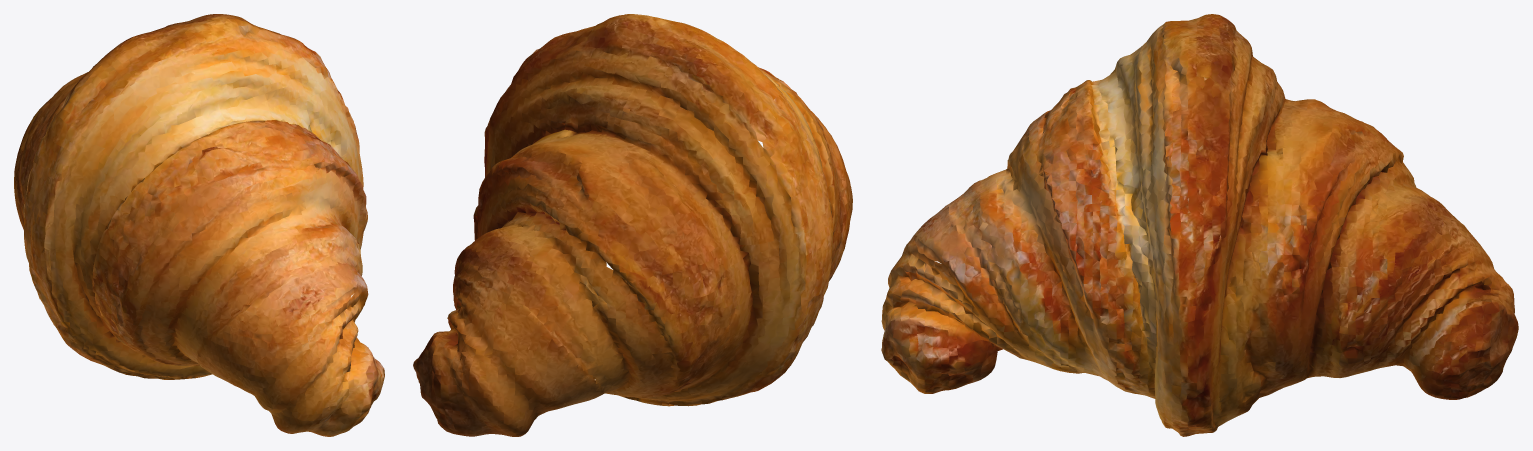
File: croissant.glb
The picture shows the model from 3 angles, left to right: view 1: azimuth 30°, elevation 25°; view 2: azimuth 150°, elevation 25°; view 3: azimuth 270°, elevation 25°; orthographic projection. The views are drawn at different scales.
Visible parts, largest first — view 1: tripo_node_3bd8fe10-61f6-4bc6-89a1-2fbb9782b797; view 2: tripo_node_3bd8fe10-61f6-4bc6-89a1-2fbb9782b797; view 3: tripo_node_3bd8fe10-61f6-4bc6-89a1-2fbb9782b797.
Boxes of the visible parts, <box> form: tripo_node_3bd8fe10-61f6-4bc6-89a1-2fbb9782b797: <box>14,14,384,436</box>; tripo_node_3bd8fe10-61f6-4bc6-89a1-2fbb9782b797: <box>413,14,852,436</box>; tripo_node_3bd8fe10-61f6-4bc6-89a1-2fbb9782b797: <box>881,14,1518,436</box>.
Size of the model in its own units: 0.144 by 0.1498 by 0.2276.
1 material, 1 textured.
